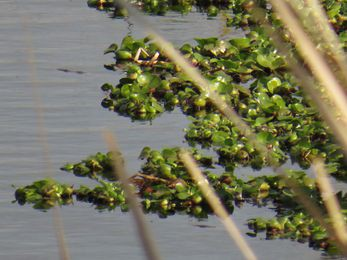water_hyacinth: (89, 18, 309, 233)
